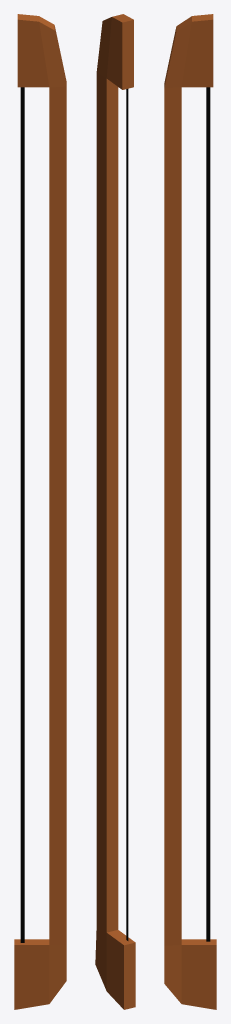
Rendered from ViolinP.fbx.
The picture shows the model from 3 angles, left to right: view 1: azimuth 90°, elevation 25°; view 2: azimuth 210°, elevation 25°; view 3: azimuth 270°, elevation 25°; orthographic projection.
Parts seen in each view (by area): view 1: Cube, Plane.005; view 2: Cube, Plane.005; view 3: Cube, Plane.005.
Boxes of the visible parts, bbox=[...] form: Cube: bbox=[14, 14, 66, 1009]; Plane.005: bbox=[20, 87, 24, 942]; Cube: bbox=[95, 14, 135, 1009]; Plane.005: bbox=[126, 89, 128, 940]; Cube: bbox=[164, 14, 216, 1009]; Plane.005: bbox=[206, 87, 210, 941].
Size of the model in its own units: 4.98 by 325 by 15.47.
